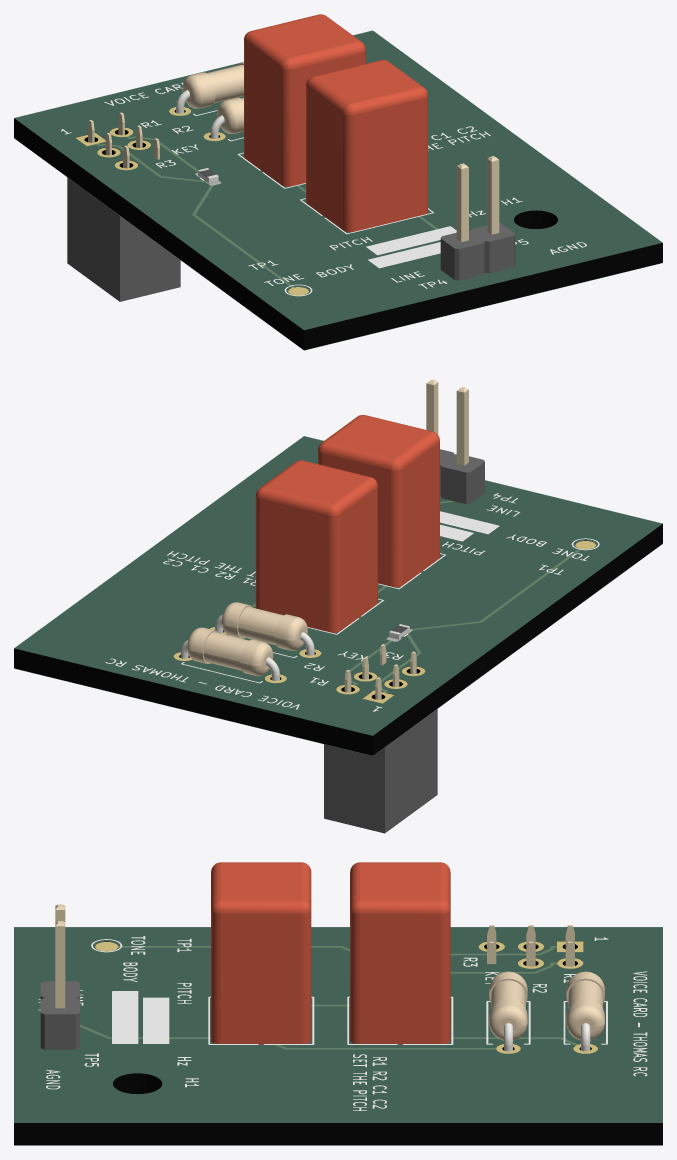
Rendered from voice-thomas.glb.
The picture shows the model from 3 angles, top to bottom: view 1: azimuth 30°, elevation 25°; view 2: azimuth 150°, elevation 25°; view 3: azimuth 270°, elevation 25°; orthographic projection. The views are drawn at different scales.
Parts seen in each view (by area): view 1: voice-thomas_visual_layers_1, voice-thomas_visual_layers_4, C2, C1, JV1_VISUAL, voice-thomas_visual_layers_7, TP4, TP5, R1, voice-thomas_visual_layers_2, R2, voice-thomas_visual_layers_6; view 2: voice-thomas_visual_layers_1, voice-thomas_visual_layers_4, C1, C2, JV1_VISUAL, voice-thomas_visual_layers_7, R1, R2, TP4, voice-thomas_visual_layers_2, TP5; view 3: voice-thomas_visual_layers_1, voice-thomas_visual_layers_4, C2, C1, voice-thomas_visual_layers_7, TP5, R1, R2, voice-thomas_visual_layers_2, JV1_VISUAL, TP4, voice-thomas_visual_layers_6.
Part boxes in pixels (x1,y1,x2,y2): voice-thomas_visual_layers_1: [14, 31, 662, 350]; voice-thomas_visual_layers_4: [14, 30, 662, 330]; C2: [306, 60, 427, 232]; C1: [244, 14, 365, 186]; JV1_VISUAL: [67, 112, 180, 301]; voice-thomas_visual_layers_7: [61, 82, 586, 296]; TP4: [440, 163, 484, 280]; TP5: [471, 156, 515, 273]; R1: [176, 62, 243, 113]; voice-thomas_visual_layers_2: [76, 107, 436, 295]; R2: [210, 97, 243, 138]; voice-thomas_visual_layers_6: [14, 138, 662, 350]; voice-thomas_visual_layers_1: [14, 437, 662, 755]; voice-thomas_visual_layers_4: [14, 436, 662, 735]; C1: [255, 460, 377, 632]; C2: [318, 415, 439, 587]; JV1_VISUAL: [324, 644, 437, 833]; voice-thomas_visual_layers_7: [105, 493, 599, 711]; R1: [180, 627, 279, 680]; R2: [215, 602, 314, 655]; TP4: [440, 387, 484, 504]; voice-thomas_visual_layers_2: [173, 501, 595, 703]; TP5: [426, 379, 454, 496]; voice-thomas_visual_layers_1: [14, 928, 662, 1145]; voice-thomas_visual_layers_4: [14, 927, 662, 1122]; C2: [211, 862, 311, 1044]; C1: [350, 862, 450, 1044]; voice-thomas_visual_layers_7: [38, 936, 647, 1110]; TP5: [40, 921, 79, 1049]; R1: [566, 971, 604, 1051]; R2: [489, 971, 527, 1051]; voice-thomas_visual_layers_2: [80, 941, 597, 1053]; JV1_VISUAL: [487, 925, 574, 966]; TP4: [40, 904, 79, 999]; voice-thomas_visual_layers_6: [14, 1145, 662, 1145].
Size of the model in its own units: 0.03 by 0.0201 by 0.042.
